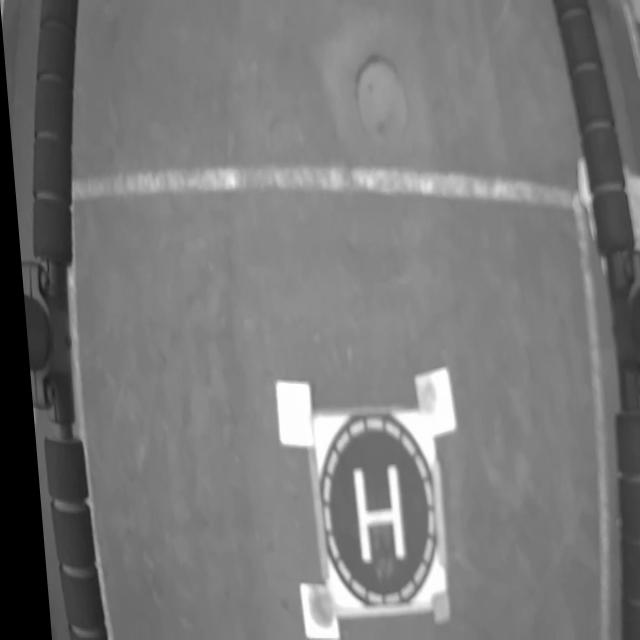Helipad: (344, 461, 395, 564)
